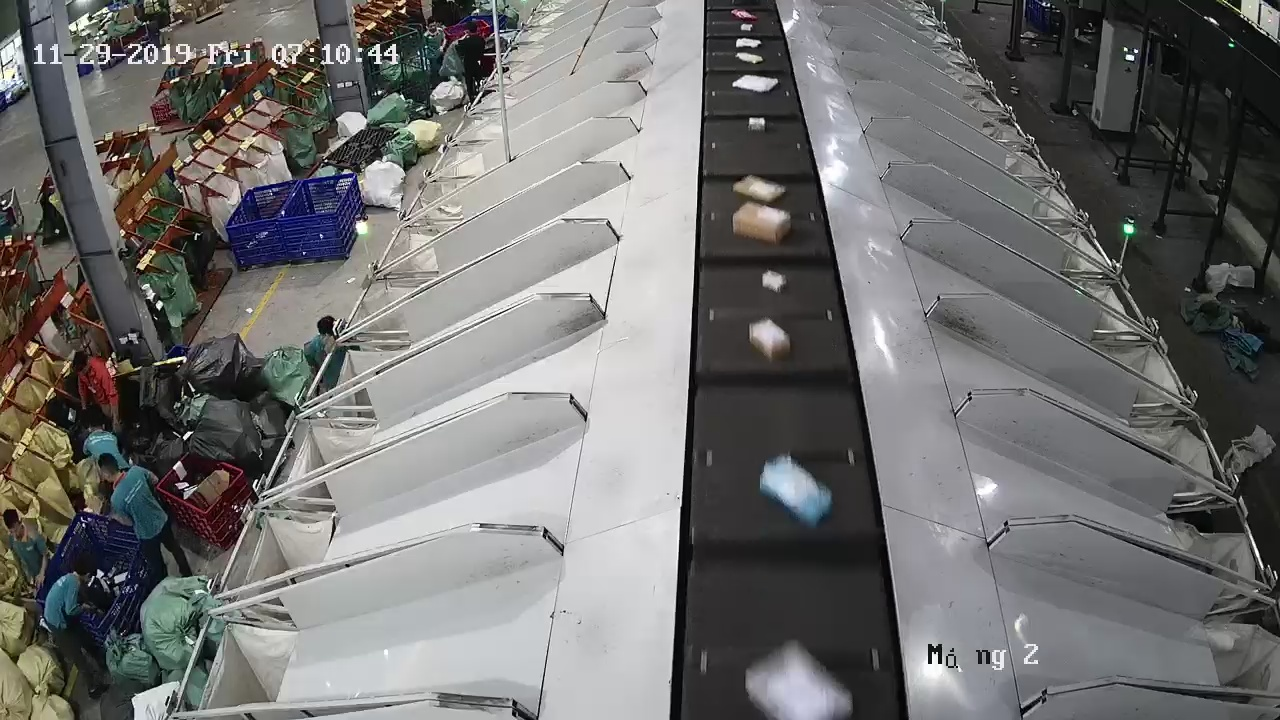parcel: (758, 454, 833, 529), (732, 202, 792, 245), (749, 319, 790, 361), (732, 175, 786, 202), (762, 269, 788, 293), (748, 117, 766, 133)
